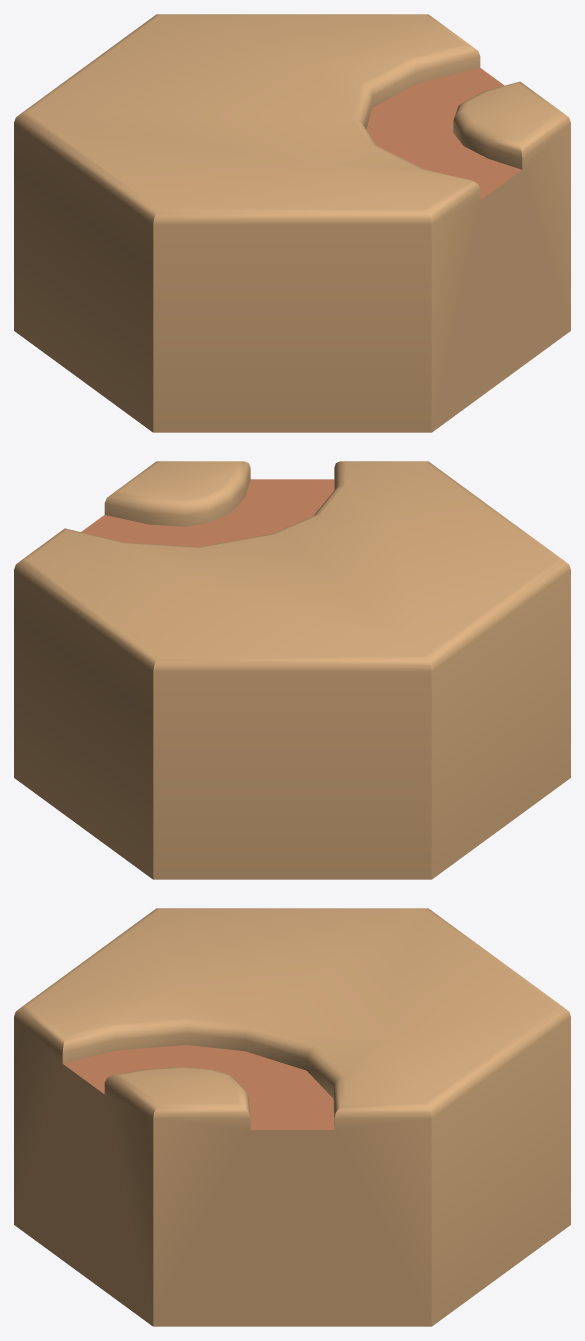
Rendered from hex_sand_roadC.glb.
3 views of the same model, one above another, from view 1: azimuth 30°, elevation 25°; view 2: azimuth 150°, elevation 25°; view 3: azimuth 270°, elevation 25° (orthographic).
Visible parts, largest first — view 1: hex_sand_roadC; view 2: hex_sand_roadC; view 3: hex_sand_roadC.
Boxes of the visible parts, x1,y1,x2,y2 form: hex_sand_roadC: (14,14,570,432); hex_sand_roadC: (14,461,570,879); hex_sand_roadC: (14,908,570,1326).
Bounding box in the file's own units: 2 × 1 × 2.31.
